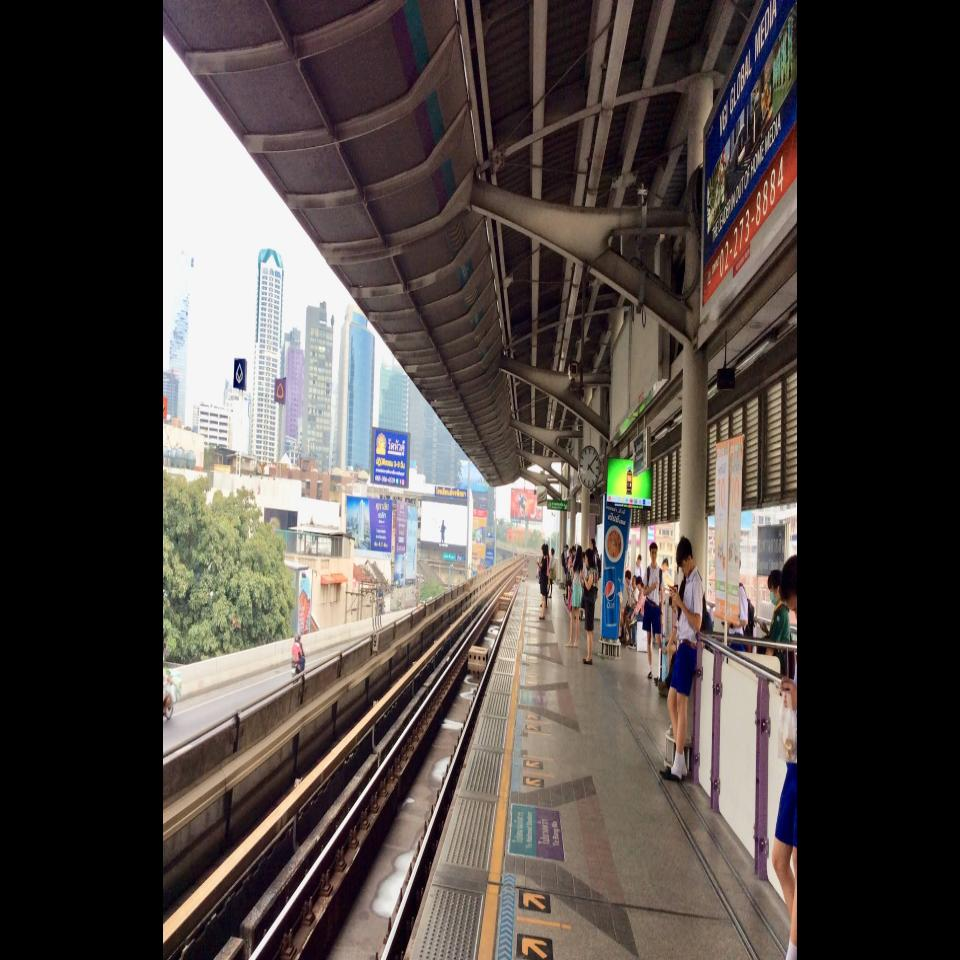signage: (756, 523, 787, 576)
